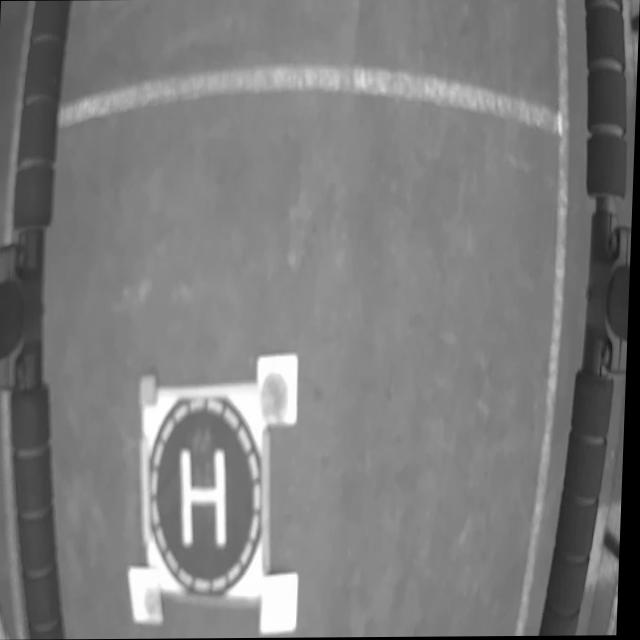Helipad: (183, 449, 228, 549)
